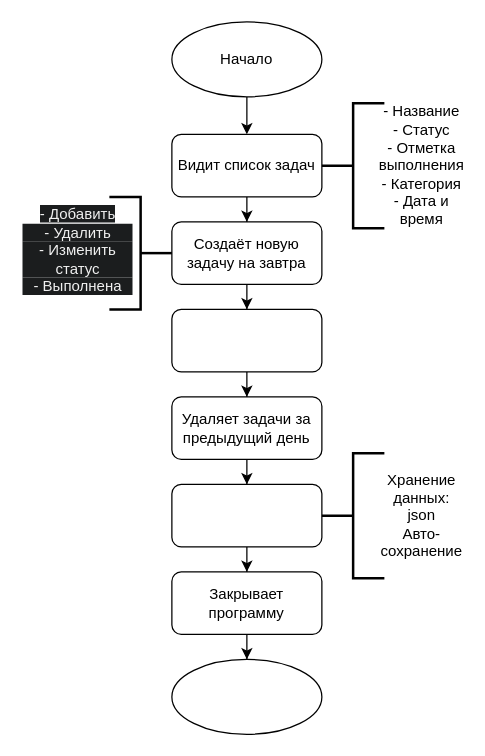
This 485x756 diagram has some shape labels left out. The shapes that lost their labels are listed below. From the top down, each one's centre as x and y in pixels, then its label:
At point 246,340: "Отмечает предыдущий день выполненным".
At point 246,515: "Сохраняет резервную копию в файл".
At point 246,696: "Конец".
